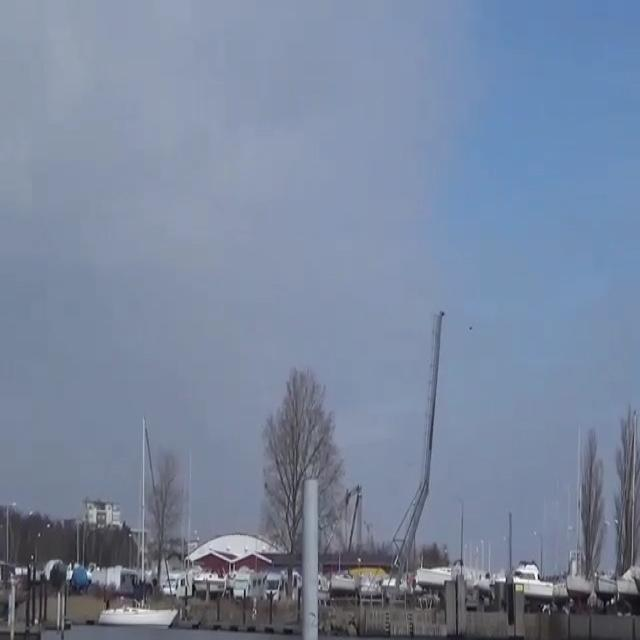bird: (467, 321, 474, 331)
